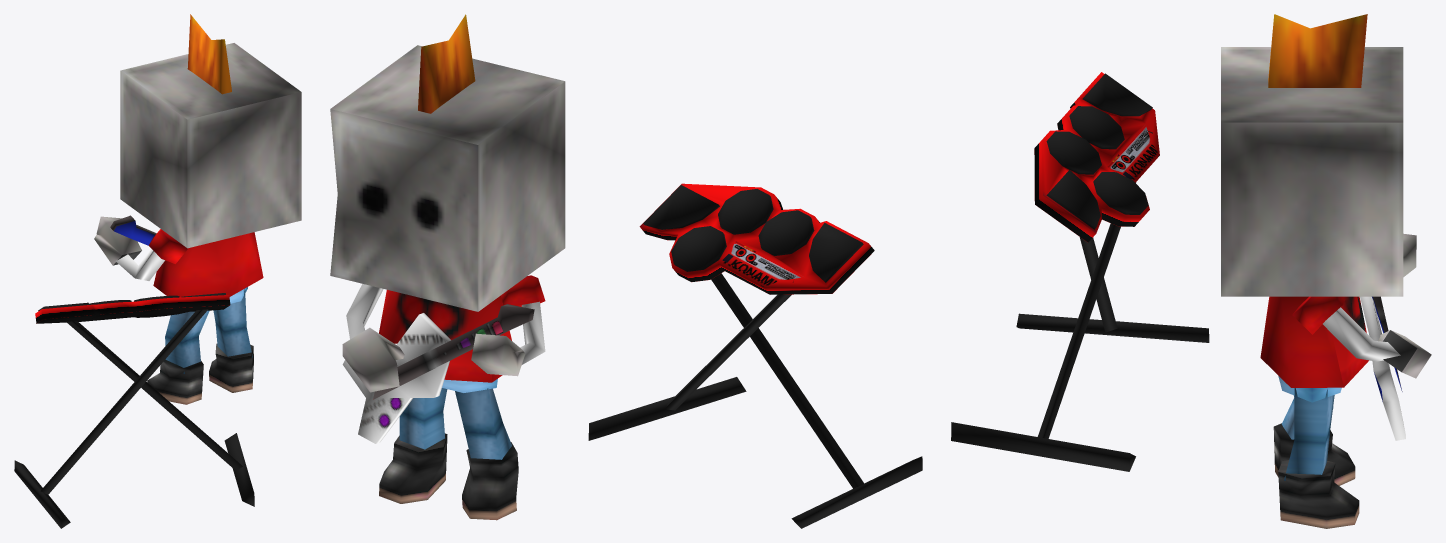
File: icon.ico.obj
The picture shows the model from 3 angles, left to right: view 1: azimuth 30°, elevation 25°; view 2: azimuth 150°, elevation 25°; view 3: azimuth 270°, elevation 25°; orthographic projection. The views are drawn at different scales.
Bounding box in the file's own units: 4.18 × 4.53 × 4.05.
1 material, 1 textured.
